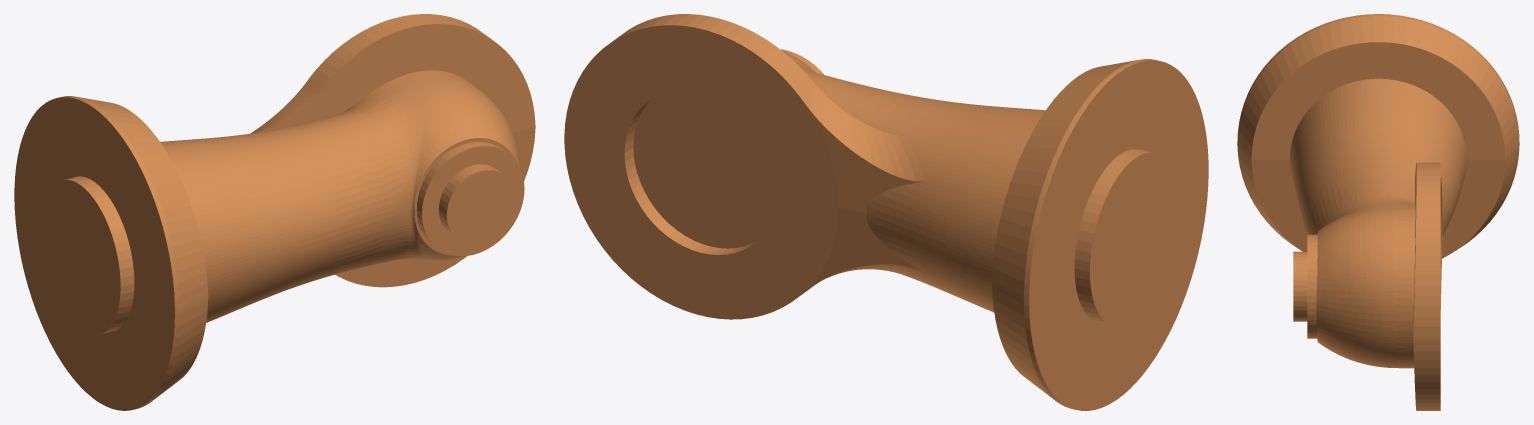
3 views of the same model, side by side, from view 1: azimuth 30°, elevation 25°; view 2: azimuth 150°, elevation 25°; view 3: azimuth 270°, elevation 25° (orthographic). The views are drawn at different scales.
Parts seen in each view (by area): view 1: Link_4; view 2: Link_4; view 3: Link_4.
Part boxes in pixels (x1=…): Link_4: x1=14, y1=14, x2=535, y2=410; Link_4: x1=564, y1=14, x2=1208, y2=410; Link_4: x1=1237, y1=14, x2=1519, y2=410.
Bounding box in the file's own units: 0.3446 × 0.202 × 0.202.
